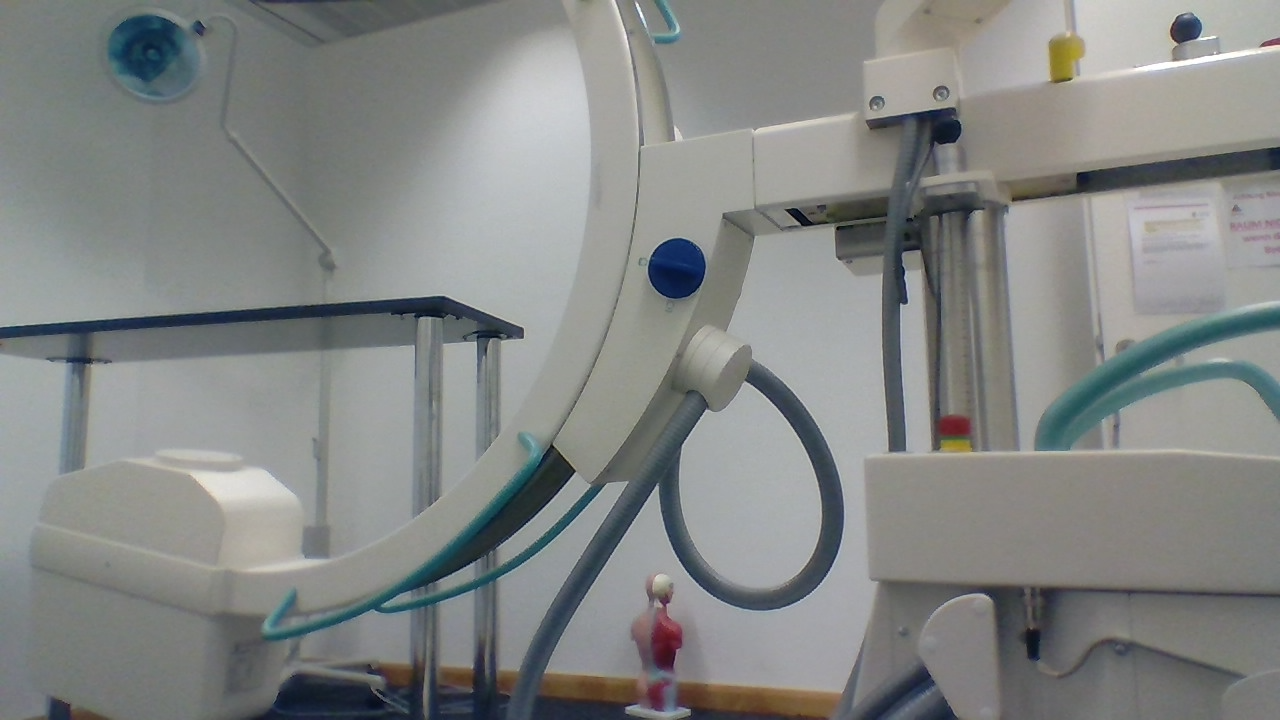carmDOWN: (33, 446, 306, 568)
carmLOCK: (645, 235, 708, 300)
